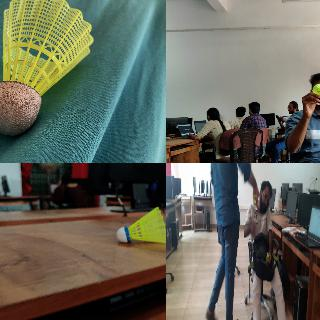shuttlecock: (0, 0, 93, 136), (116, 206, 165, 245), (312, 83, 319, 96), (266, 253, 269, 261)
